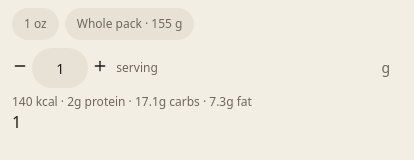
Test: ServingAmount › a packaged food › offers the whole pack when the source knows what the package weighs
This screenshot has width=414, height=160.
Step 1. Click the button "Whole pack · 155 g" → (130, 24), box [65, 8, 194, 40]
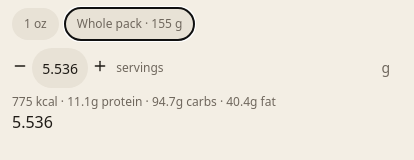
Step 2. Click the button named "Enter the amount in grams" → (386, 68), box [369, 48, 402, 88]
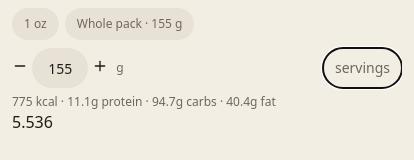
Result: the field named "Amount in grams" holds "155" at [32, 48, 88, 88]
